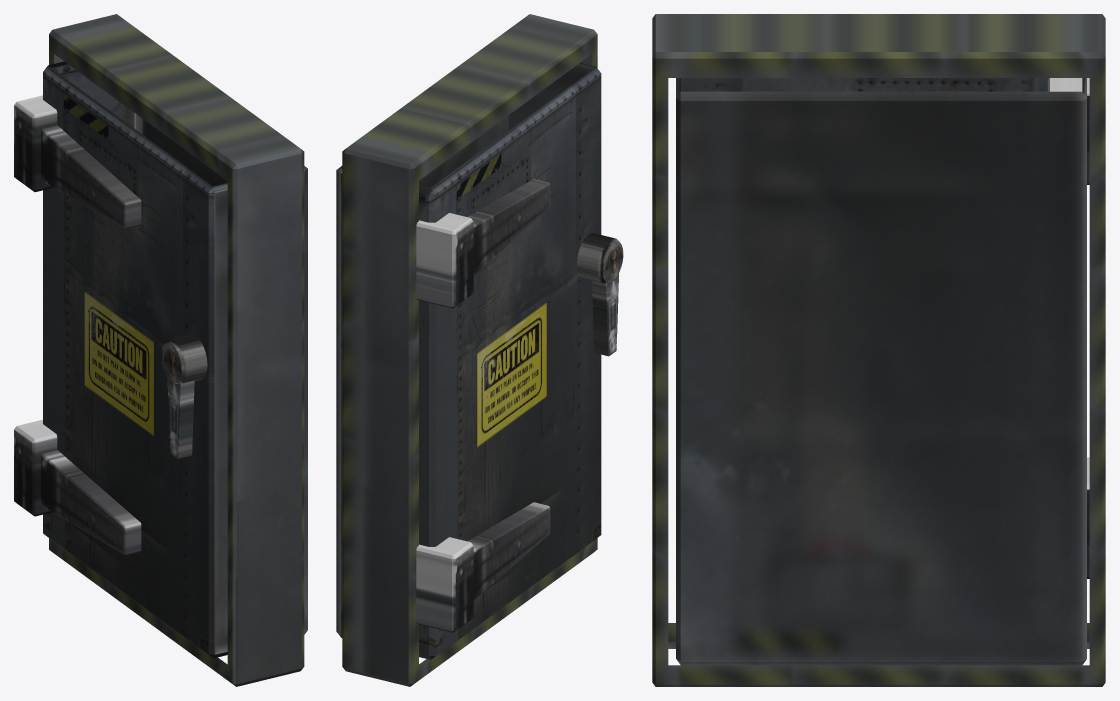
The model's file is meatlockerdoor.fbx.
The picture shows the model from 3 angles, left to right: view 1: azimuth 30°, elevation 25°; view 2: azimuth 150°, elevation 25°; view 3: azimuth 270°, elevation 25°; orthographic projection. The views are drawn at different scales.
Parts seen in each view (by area): view 1: meatlockerdoorMesh, meatlockerdoorframeMesh, polySurface6, meatlockerdoorhandleMesh; view 2: meatlockerdoorMesh, meatlockerdoorframeMesh, polySurface6, meatlockerdoorhandleMesh; view 3: meatlockerdoorMesh, meatlockerdoorframeMesh.
Part boxes in pixels (x1,y1,x2,y2): meatlockerdoorMesh: (14, 61, 307, 658); meatlockerdoorframeMesh: (49, 14, 304, 686); polySurface6: (161, 334, 207, 383); meatlockerdoorhandleMesh: (167, 378, 194, 458); meatlockerdoorMesh: (336, 63, 601, 659); meatlockerdoorframeMesh: (342, 14, 597, 686); polySurface6: (576, 233, 623, 283); meatlockerdoorhandleMesh: (592, 273, 618, 356); meatlockerdoorMesh: (676, 78, 1089, 665); meatlockerdoorframeMesh: (652, 14, 1105, 686).
Bounding box in the file's own units: 68.58 × 277 × 179.
Materials: 1 (1 with a texture image).
